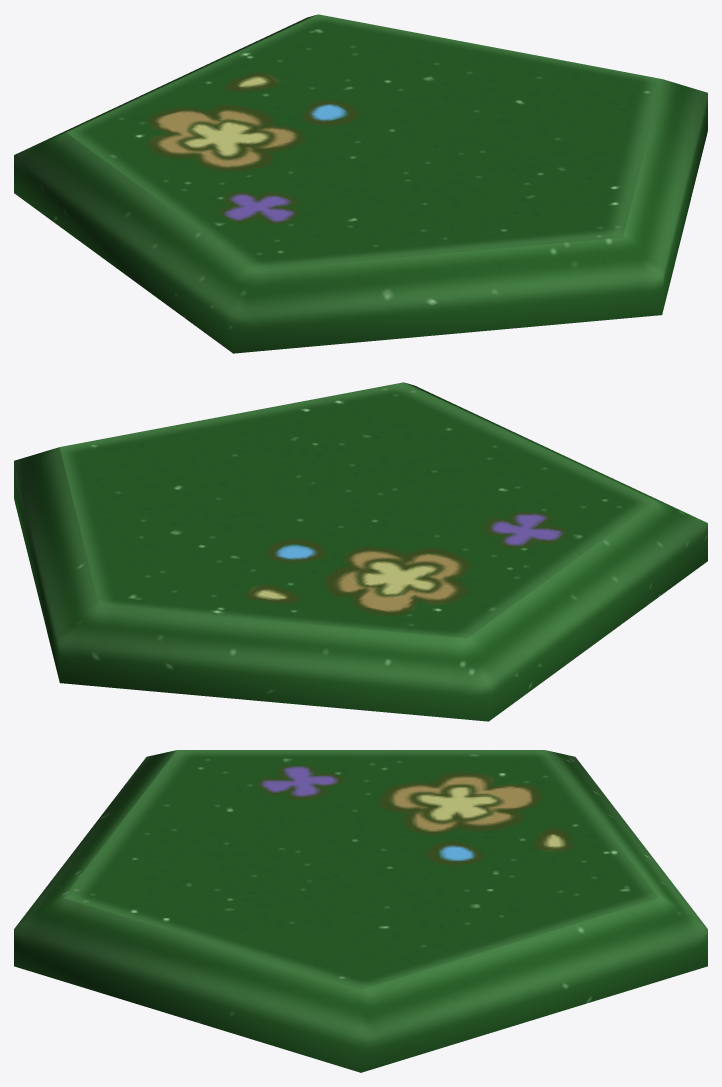
3 views of the same model, one above another, from view 1: azimuth 30°, elevation 25°; view 2: azimuth 150°, elevation 25°; view 3: azimuth 270°, elevation 25° (orthographic). The views are drawn at different scales.
Visible parts, largest first — view 1: Cylinder017; view 2: Cylinder017; view 3: Cylinder017.
Boxes of the visible parts, left/top/right/bottom form: Cylinder017: left=14, top=14, right=707, bottom=353; Cylinder017: left=14, top=382, right=707, bottom=721; Cylinder017: left=14, top=750, right=707, bottom=1072.
Bounding box in the file's own units: 116 × 11.88 × 122.
1 material, 1 textured.
